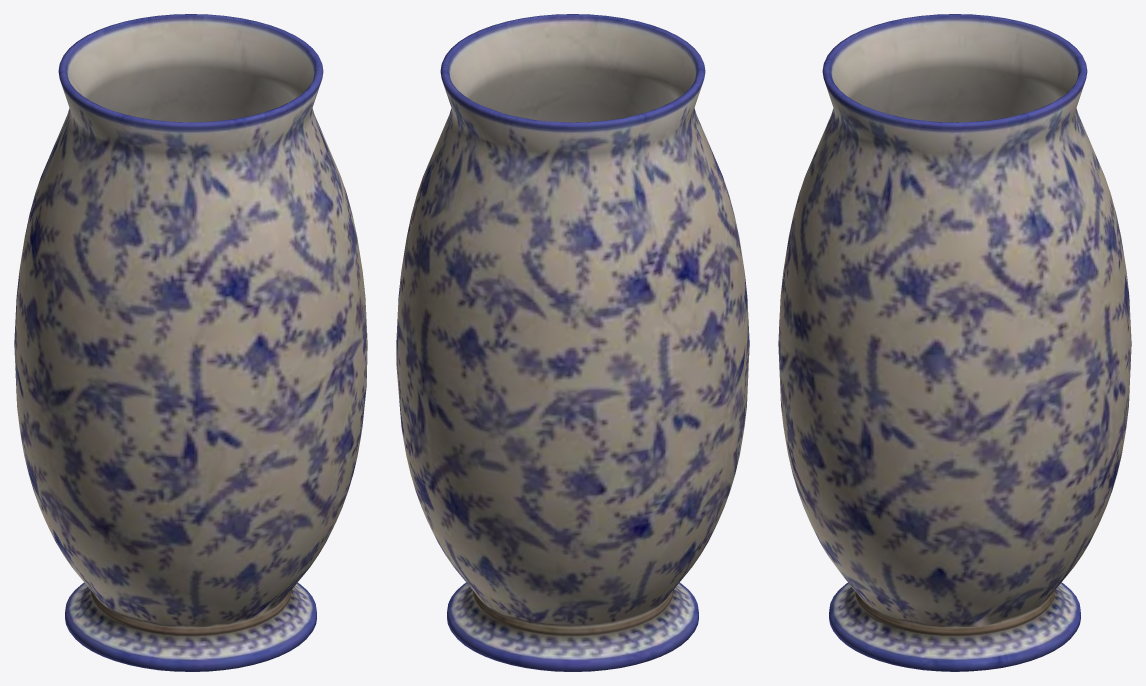
Rendered from antique_ceramic_vase_01.glb.
3 renders of one model, left to right at view 1: azimuth 30°, elevation 25°; view 2: azimuth 150°, elevation 25°; view 3: azimuth 270°, elevation 25°, orthographic.
Visible parts, largest first — view 1: antique_ceramic_vase_01; view 2: antique_ceramic_vase_01; view 3: antique_ceramic_vase_01.
Part boxes in pixels (x1=…): antique_ceramic_vase_01: x1=14, y1=14, x2=367, y2=671; antique_ceramic_vase_01: x1=396, y1=14, x2=749, y2=671; antique_ceramic_vase_01: x1=778, y1=14, x2=1131, y2=671.
Bounding box in the file's own units: 0.255 × 0.4396 × 0.255.
Materials: 1 (1 with a texture image).
